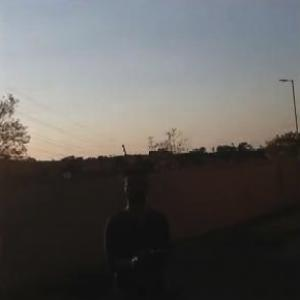follow: (101, 154, 181, 299)
